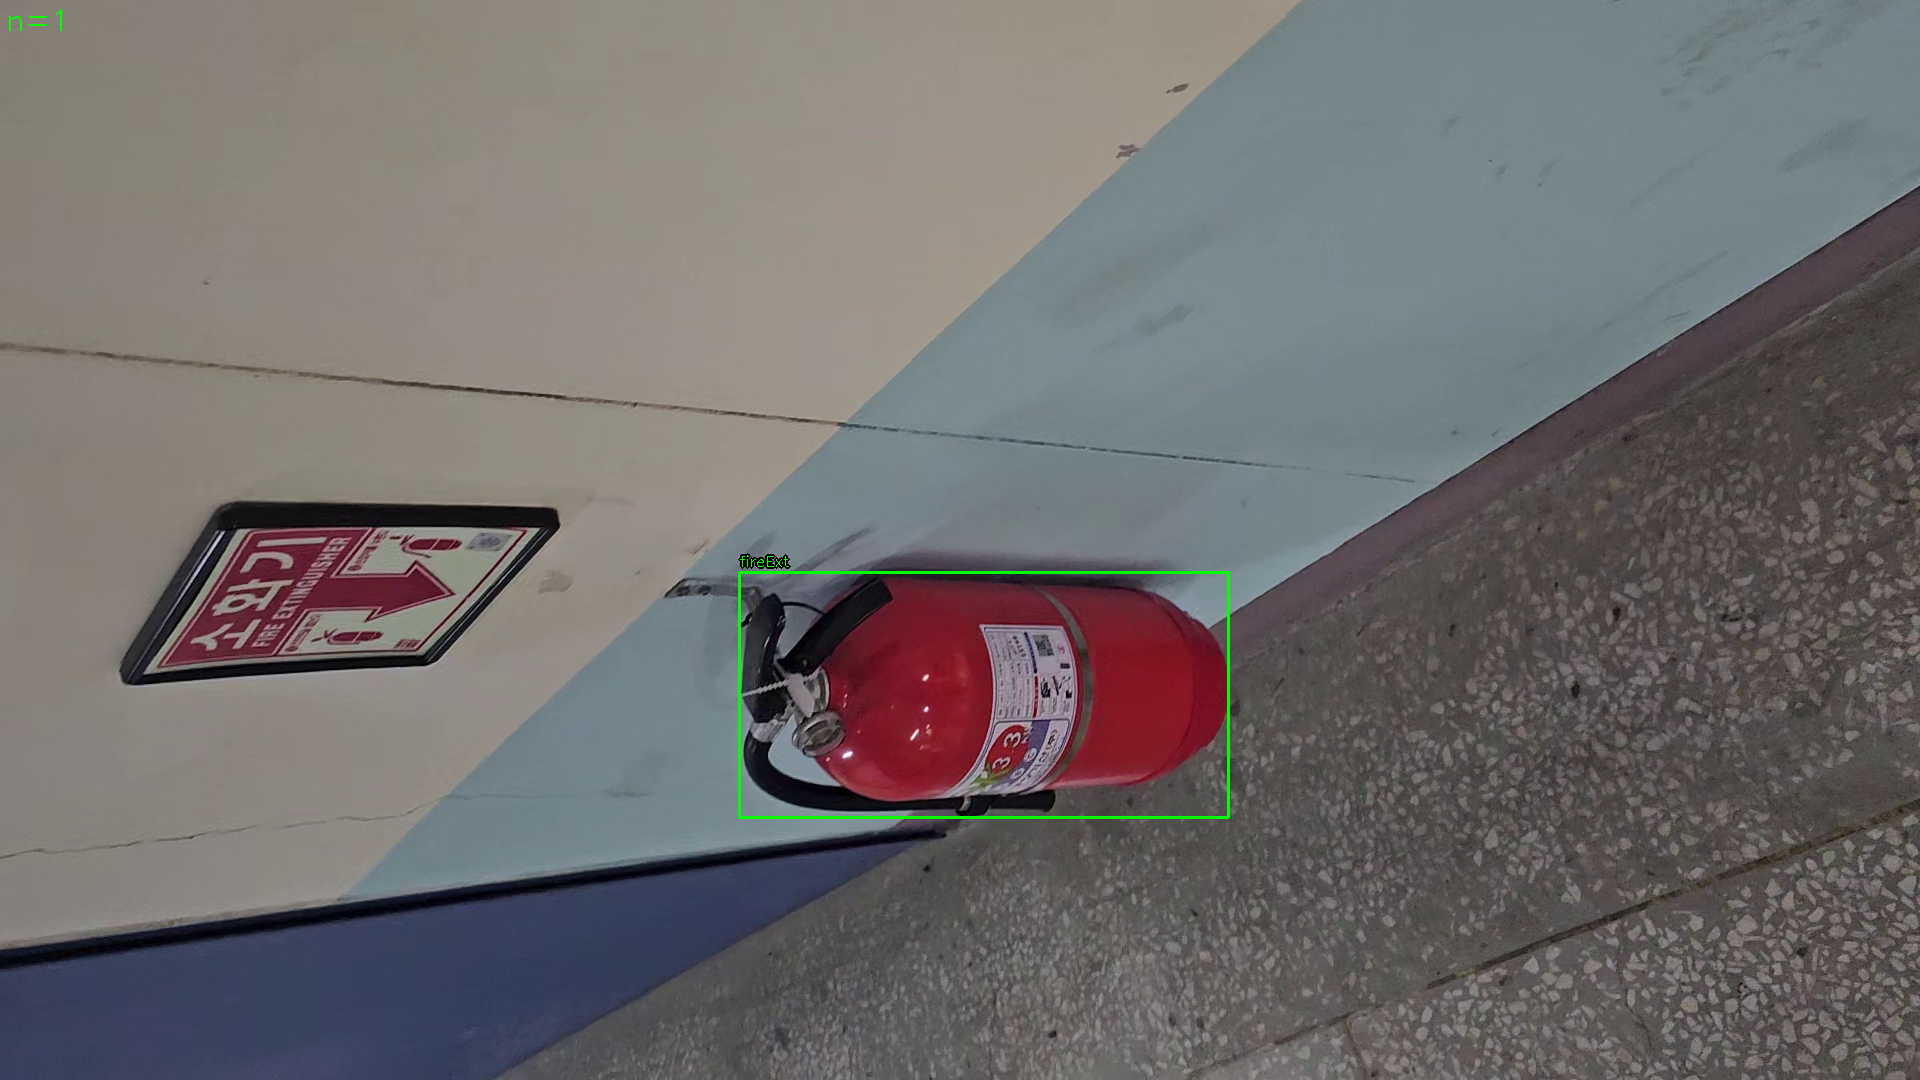lane: (738, 572, 1229, 818)
